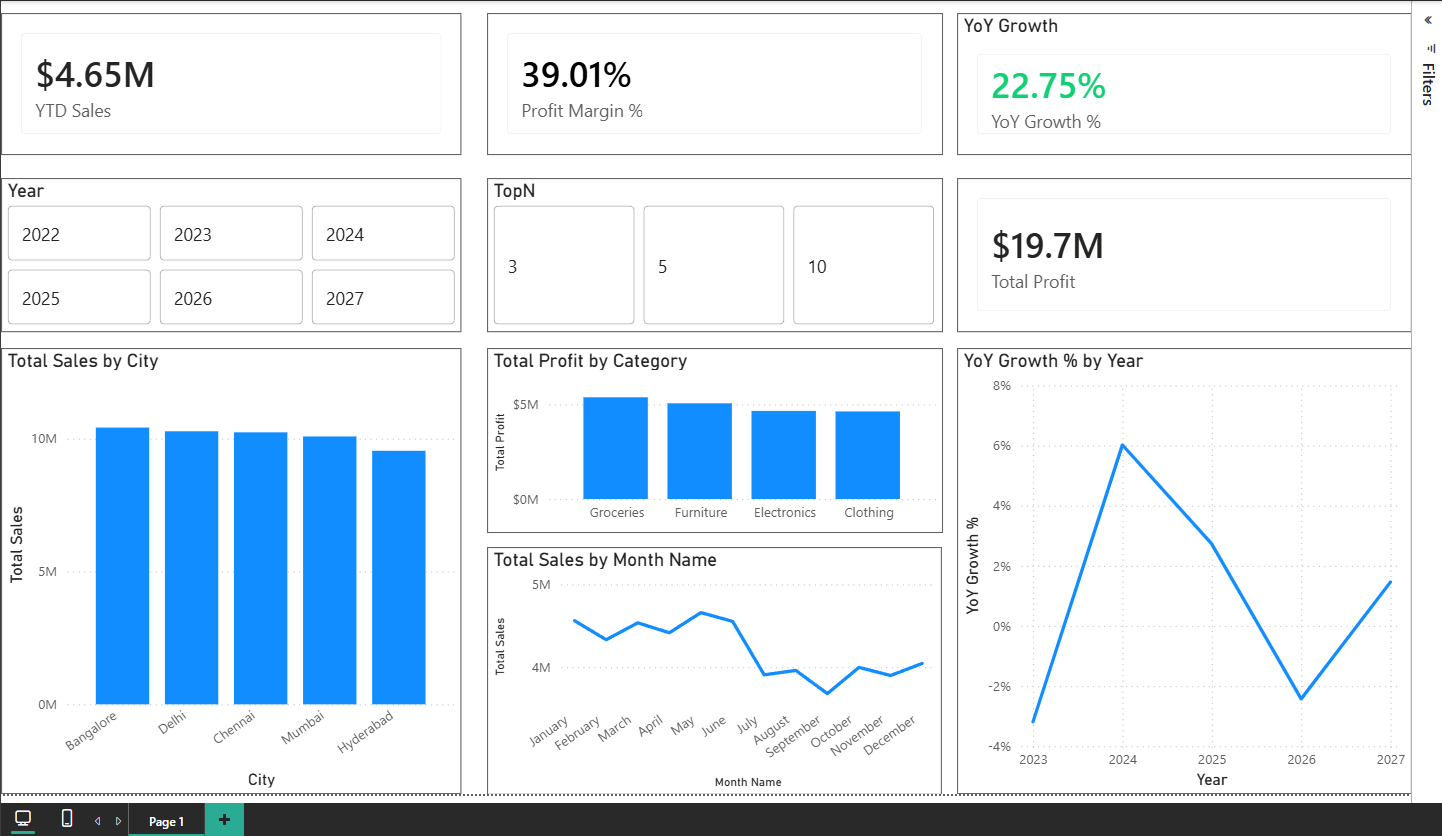

The dashboard page shown, as its layout file describes it:
{"tool":"powerbi","page":{"name":"Page 1","canvas":[1280,720],"ordinal":0},"visuals":[{"type":"cardVisual","fields":{"Data":["Dim_City.YTD Sales"]},"box":[0,11.3,418.2,128.6],"z":0},{"type":"lineChart","fields":{"Category":["Dim_Date.Month Name"],"Y":["Dim_City.Total Sales"]},"box":[440.8,495.9,412.5,224.6],"z":1000},{"type":"advancedSlicerVisual","fields":{"Values":["TopN_Table.TopN"]},"box":[440.8,161.1,414,139.9],"z":2000},{"type":"clusteredColumnChart","fields":{"Category":["Dim_City.City"],"Y":["Dim_City.Total Sales"]},"box":[0,315.1,418.2,405.5],"z":3000},{"type":"advancedSlicerVisual","fields":{"Values":["Dim_Date.Year"]},"box":[0,161.1,418.2,139.9],"z":4000},{"type":"cardVisual","title":"YoY Growth","fields":{"Data":["Dim_City.YoY Growth %"]},"box":[867.5,11.3,412.5,128.6],"z":5000},{"type":"cardVisual","fields":{"Data":["Dim_City.Profit Margin %"]},"box":[440.8,11.3,414,128.6],"z":6000},{"type":"lineChart","fields":{"Category":["Dim_Date.Year"],"Y":["Dim_City.YoY Growth %"]},"box":[867.5,315.1,412.5,405.5],"z":7000},{"type":"columnChart","fields":{"Category":["Fact_Sales.Category"],"Y":["Dim_City.Total Profit"]},"box":[440.8,315.1,414,168.1],"z":8000},{"type":"cardVisual","fields":{"Data":["Dim_City.Total Profit"]},"box":[867.5,161.1,412.5,139.9],"z":9000}]}

Visuals, with their boxes in screenshot pixels (x1, y1, x2, y2):
cardVisual - Dim_City.YTD Sales: locate(0, 9, 461, 152)
lineChart - Dim_Date.Month Name x Dim_City.Total Sales: locate(486, 547, 944, 797)
advancedSlicerVisual - TopN_Table.TopN: locate(486, 175, 946, 331)
clusteredColumnChart - Dim_City.City x Dim_City.Total Sales: locate(0, 346, 461, 797)
advancedSlicerVisual - Dim_Date.Year: locate(0, 175, 461, 331)
"YoY Growth" cardVisual: locate(960, 9, 1418, 152)
cardVisual - Dim_City.Profit Margin %: locate(486, 9, 946, 152)
lineChart - Dim_Date.Year x Dim_City.YoY Growth %: locate(960, 346, 1418, 797)
columnChart - Fact_Sales.Category x Dim_City.Total Profit: locate(486, 346, 946, 533)
cardVisual - Dim_City.Total Profit: locate(960, 175, 1418, 331)
